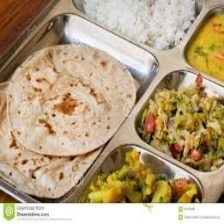rice: (79, 1, 199, 53)
